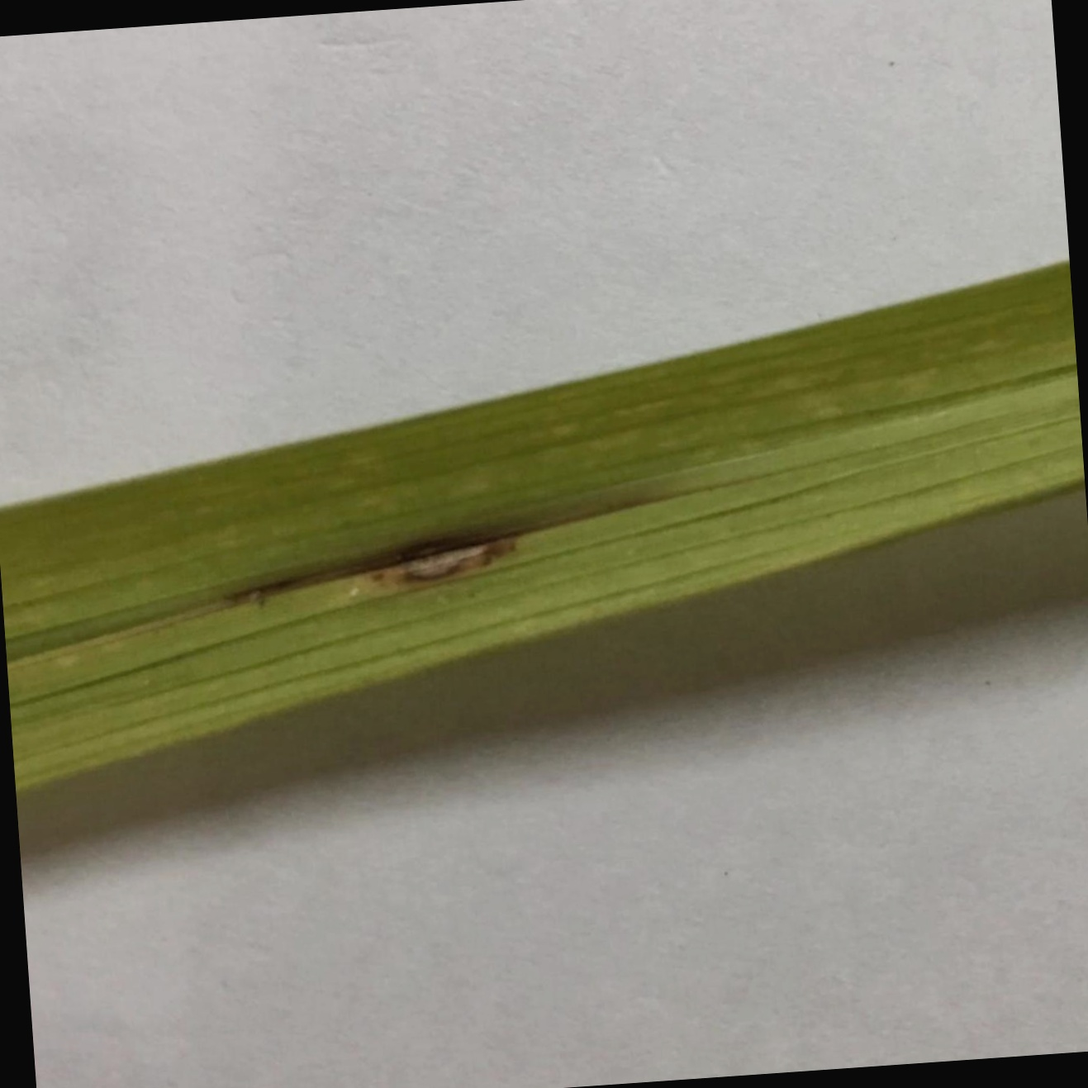Brown_Spot: (299, 420, 578, 633)
